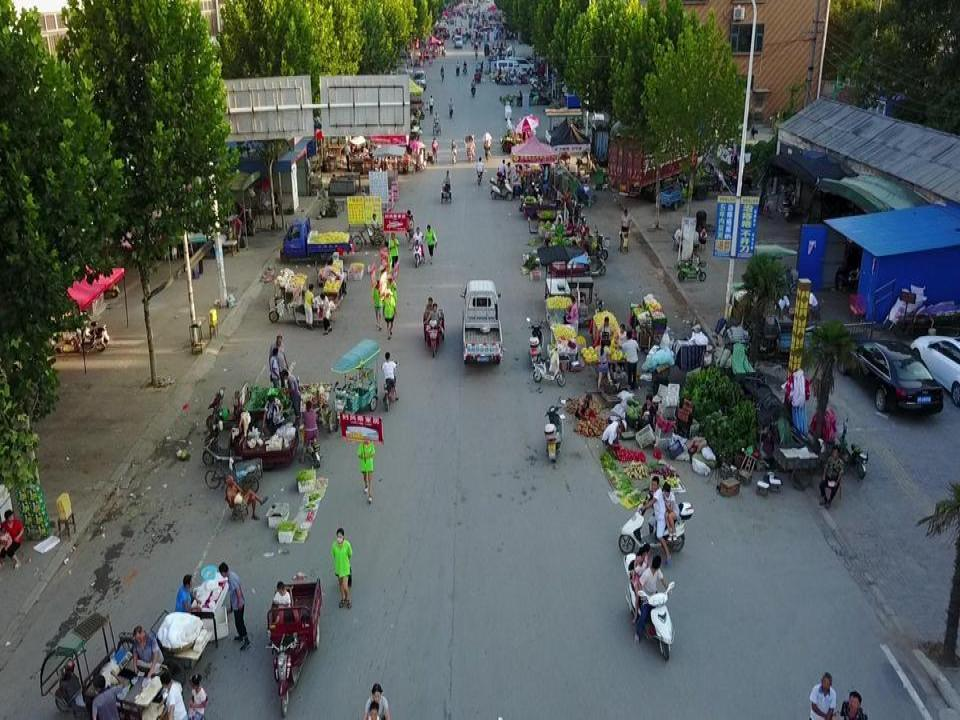car: (836, 339, 943, 416), (508, 56, 536, 75)
truck: (608, 122, 712, 202), (459, 279, 503, 364)
van: (496, 59, 524, 76), (413, 69, 427, 91), (454, 35, 463, 48)
